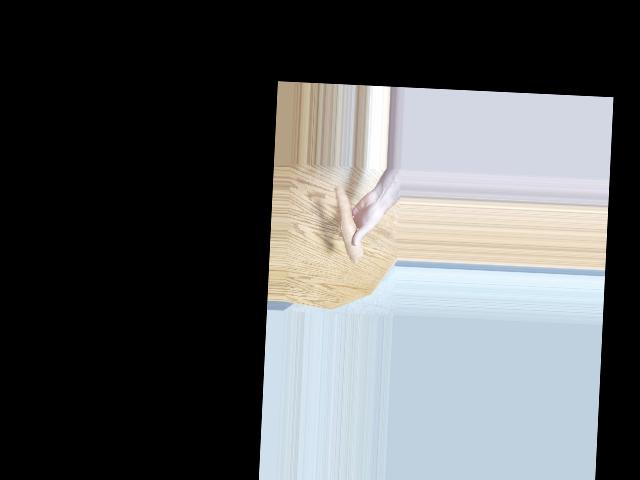sweet_potato: (337, 181, 362, 261)
